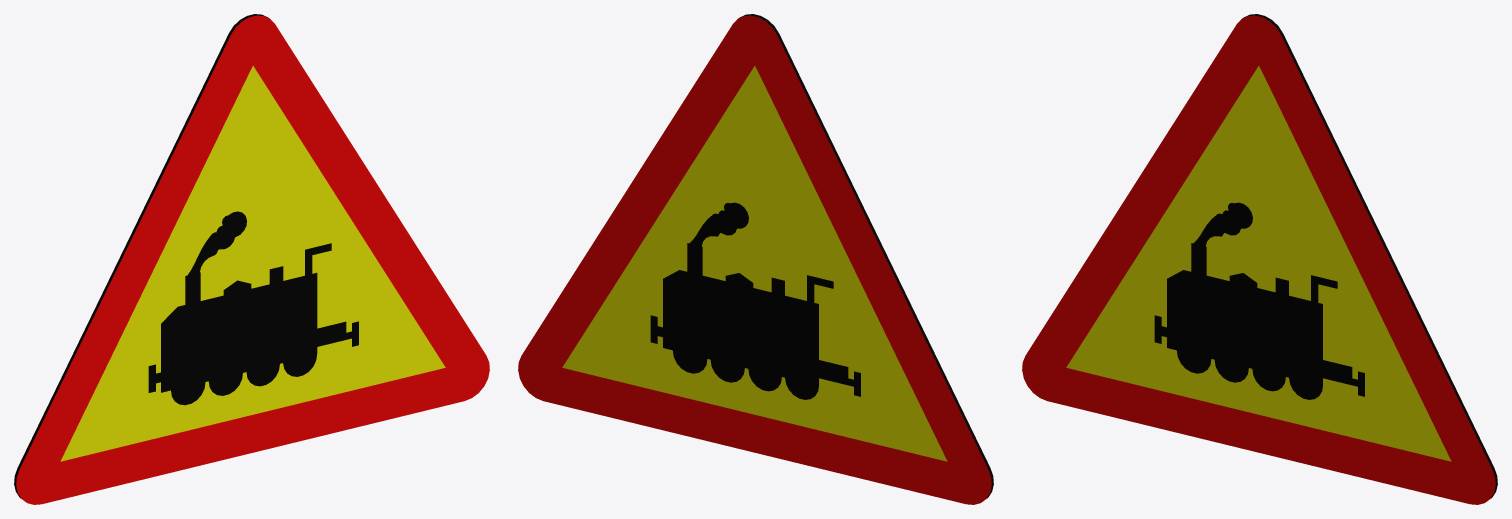
Rendered from w.211a_giaonhauvoiduongsatkhongcoraochan.glb.
3 renders of one model, left to right at view 1: azimuth 30°, elevation 25°; view 2: azimuth 150°, elevation 25°; view 3: azimuth 330°, elevation 25°, orthographic.
Visible parts, largest first — view 1: Solid3; view 2: Solid3; view 3: Solid3.
Boxes of the visible parts, x1,y1,x2,y2 form: Solid3: (14,14,489,504); Solid3: (518,14,993,504); Solid3: (1022,14,1497,504).
Size of the model in its own units: 0.6486 by 0.5708 by 0.005.
